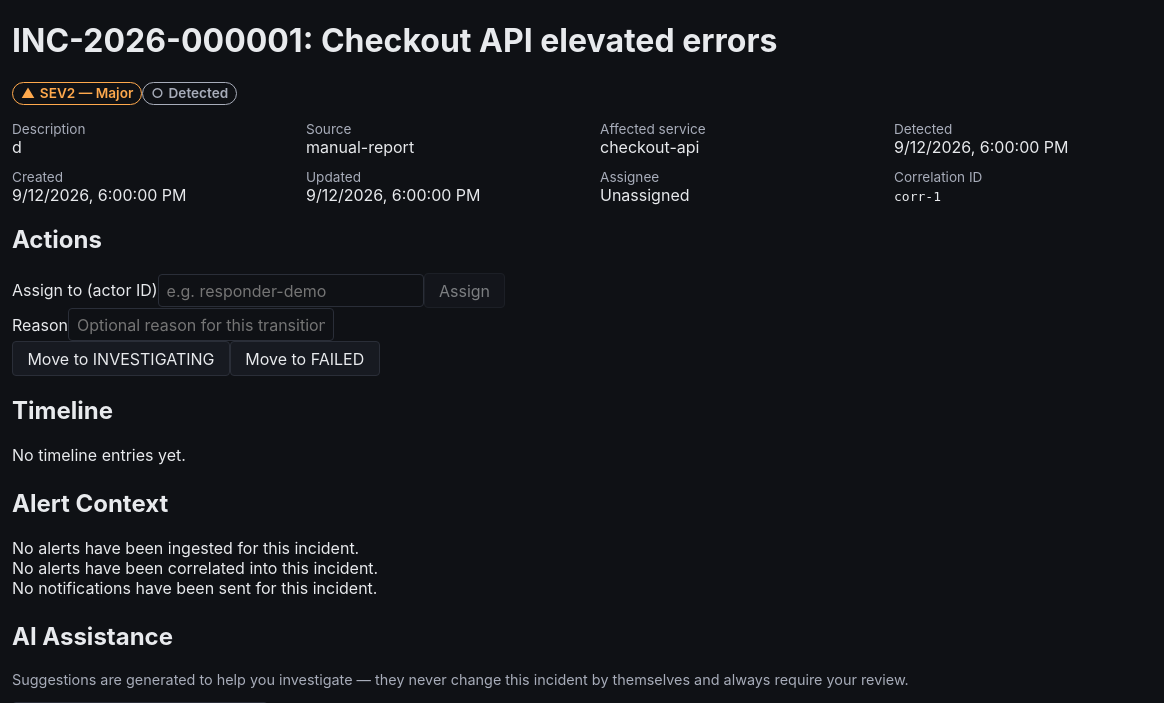
it: IncidentDetail › prevents a duplicate submission while a transition is still pending
Click the button "Move to INVESTIGATING" at {"x": 121, "y": 359}, box [12,341,230,376]
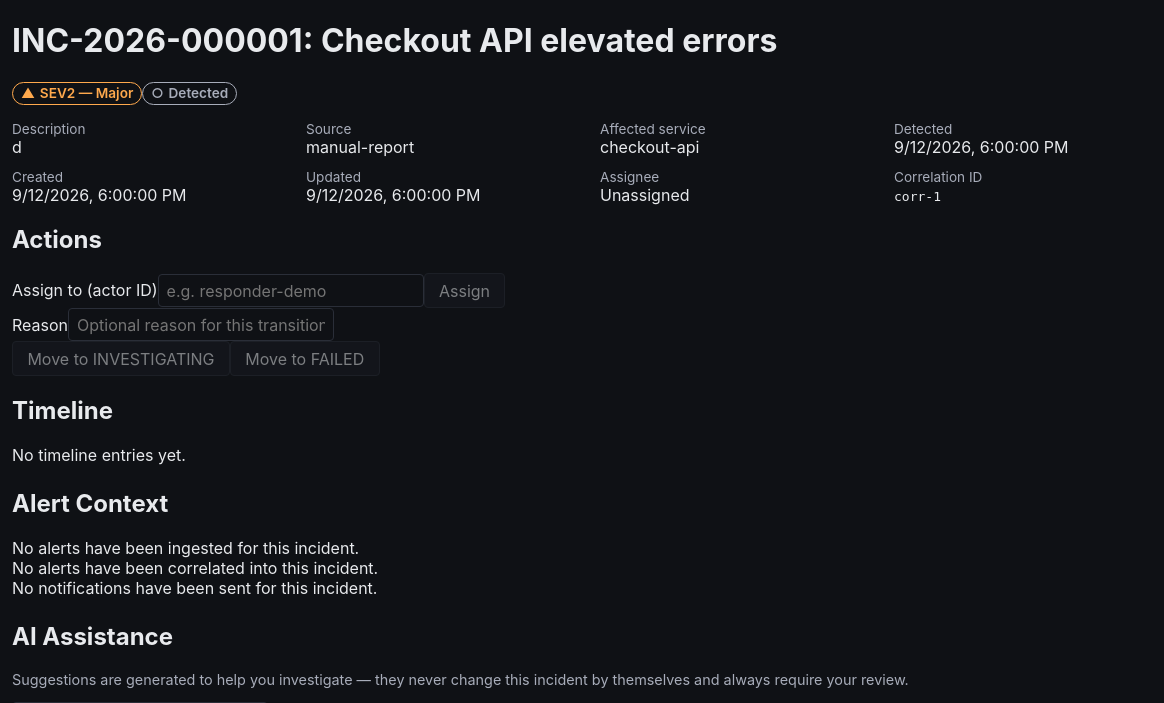
# The button is now disabled while the request is pending — a second click must not fire.
Click the button "Move to INVESTIGATING" at {"x": 121, "y": 359}, box [12,341,230,376]
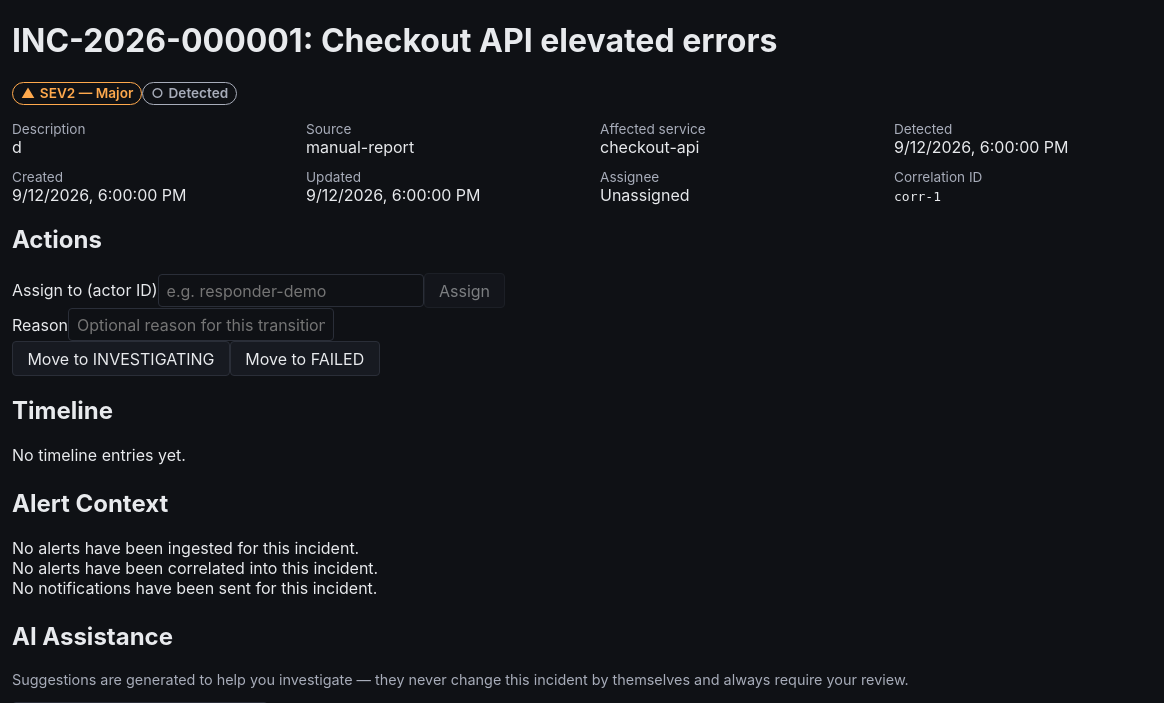
Check: the button "Move to INVESTIGATING" is enabled, box [12,341,230,376]
